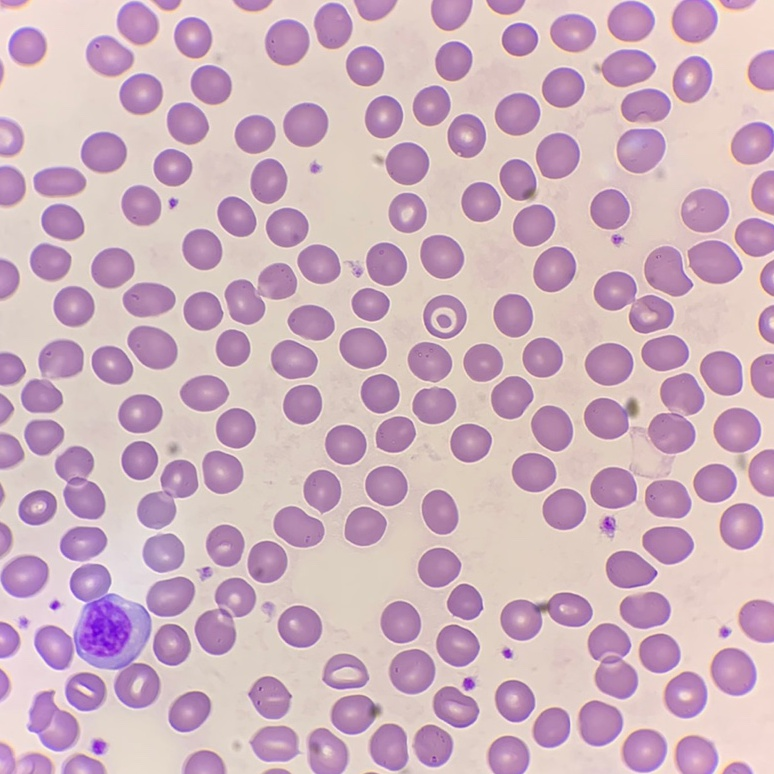RBC: (594, 272, 672, 332), (195, 578, 255, 654), (225, 263, 296, 323), (501, 593, 591, 639), (137, 460, 197, 527), (588, 623, 637, 698), (55, 446, 105, 518), (114, 643, 160, 707), (30, 691, 79, 748), (645, 247, 690, 295), (584, 398, 638, 438), (689, 241, 740, 283), (711, 648, 756, 695), (714, 408, 760, 452), (617, 129, 664, 172), (128, 326, 176, 368), (389, 649, 434, 693), (681, 189, 728, 231), (578, 701, 622, 745), (536, 133, 579, 178), (585, 343, 632, 384), (1, 555, 48, 596), (602, 49, 654, 86), (274, 507, 323, 546), (331, 695, 381, 733), (265, 20, 308, 64), (622, 729, 666, 772), (664, 672, 706, 717), (720, 503, 761, 549), (86, 36, 133, 76), (284, 103, 327, 146), (672, 0, 716, 42), (591, 467, 636, 508), (147, 577, 194, 616), (643, 526, 692, 563), (421, 235, 463, 278), (495, 93, 539, 134), (534, 247, 575, 291), (81, 132, 126, 172), (340, 328, 385, 368), (649, 413, 694, 453), (608, 1, 654, 40), (386, 142, 428, 184), (620, 592, 669, 628), (117, 1, 158, 44), (278, 606, 321, 647), (532, 406, 572, 450), (308, 729, 348, 773), (369, 724, 407, 770), (606, 551, 654, 587), (731, 122, 773, 163), (424, 295, 465, 337), (491, 376, 532, 418), (436, 625, 478, 666), (701, 351, 741, 394), (433, 687, 477, 726), (271, 340, 316, 378), (673, 56, 710, 102), (123, 283, 174, 316), (120, 74, 162, 114), (543, 489, 585, 529), (169, 691, 211, 731), (314, 3, 351, 48), (645, 480, 690, 517), (250, 677, 290, 718), (91, 248, 133, 287), (661, 374, 703, 413), (203, 451, 242, 493), (408, 342, 451, 380), (512, 453, 555, 491), (551, 14, 595, 51), (181, 375, 227, 410), (167, 103, 207, 143), (514, 205, 554, 245), (542, 68, 583, 107), (367, 243, 406, 284), (381, 601, 420, 642), (495, 680, 534, 721), (494, 294, 532, 336), (119, 394, 161, 432), (35, 626, 73, 668), (448, 114, 485, 157), (39, 340, 83, 376), (642, 335, 687, 370), (54, 286, 93, 326), (366, 466, 406, 505), (298, 245, 339, 283), (248, 541, 286, 582), (418, 548, 459, 586), (639, 634, 680, 672), (414, 725, 452, 766), (676, 735, 717, 773), (252, 726, 297, 760), (326, 425, 365, 464), (191, 65, 231, 103), (267, 208, 307, 246), (183, 229, 221, 269), (345, 507, 385, 545), (66, 672, 106, 710), (365, 96, 402, 137), (694, 464, 735, 501), (143, 534, 184, 571), (488, 736, 529, 773), (251, 159, 286, 202), (422, 490, 457, 533), (622, 89, 669, 121), (289, 305, 333, 339), (323, 654, 367, 688), (122, 186, 160, 225), (590, 190, 629, 228), (523, 338, 562, 376), (92, 346, 132, 383), (206, 525, 243, 565), (153, 624, 190, 664), (34, 167, 85, 196), (42, 204, 83, 240), (413, 388, 455, 423), (216, 409, 254, 447), (174, 18, 211, 57), (235, 115, 274, 152), (462, 182, 499, 221), (389, 193, 426, 232), (218, 197, 255, 236), (451, 424, 490, 461), (304, 470, 340, 510), (61, 527, 106, 559), (739, 600, 773, 642), (346, 47, 383, 85), (735, 218, 773, 255), (284, 385, 321, 423), (413, 86, 449, 125), (31, 244, 70, 280), (533, 708, 569, 747), (184, 292, 221, 329), (361, 375, 398, 412), (435, 42, 471, 80), (464, 344, 502, 380), (500, 160, 535, 199), (70, 564, 110, 598), (154, 149, 191, 185), (376, 417, 414, 452), (122, 441, 157, 479), (9, 28, 45, 64), (25, 420, 63, 454), (19, 490, 56, 524), (22, 380, 61, 412), (448, 584, 482, 619), (431, 0, 472, 29), (216, 330, 249, 365), (749, 449, 773, 496), (502, 23, 537, 55), (352, 289, 388, 320), (748, 50, 773, 90), (182, 750, 225, 773), (0, 167, 25, 205), (751, 354, 773, 397), (752, 171, 773, 213), (0, 119, 23, 156), (0, 433, 23, 468), (355, 0, 395, 20), (64, 754, 105, 773), (0, 353, 24, 384), (0, 259, 18, 299), (0, 622, 19, 656), (488, 0, 523, 13), (30, 754, 52, 773), (0, 524, 12, 556), (761, 262, 773, 293), (759, 317, 773, 342), (236, 0, 269, 10), (0, 396, 12, 422), (724, 762, 750, 773), (722, 0, 752, 8), (601, 516, 615, 533), (0, 672, 9, 697), (156, 0, 179, 9), (0, 744, 12, 759), (93, 739, 105, 751), (3, 761, 15, 773), (463, 678, 474, 688), (1, 0, 21, 5), (200, 568, 211, 577), (168, 444, 178, 453), (264, 603, 273, 612), (139, 629, 148, 637), (737, 458, 745, 466), (269, 769, 284, 773), (767, 306, 773, 315)
